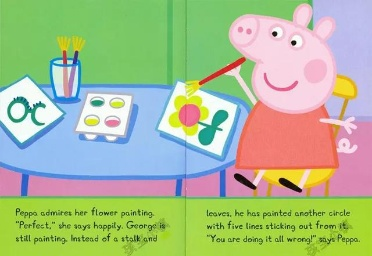Peppa: (225, 1, 356, 192)
